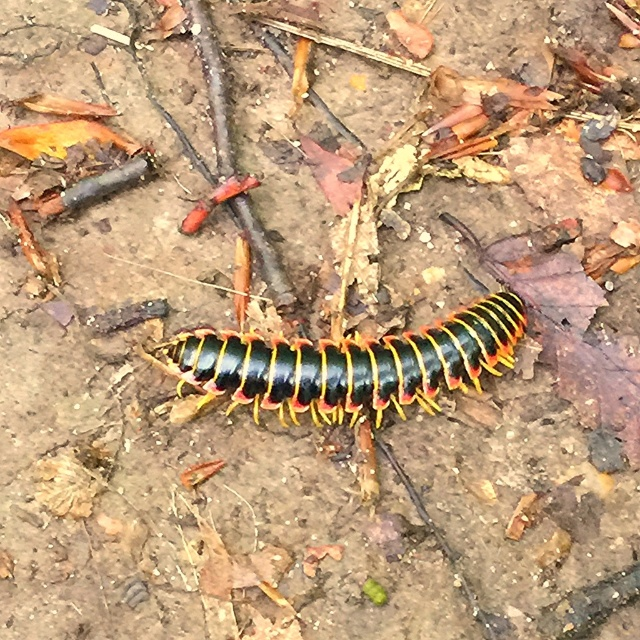Centipede: (141, 279, 542, 430)
